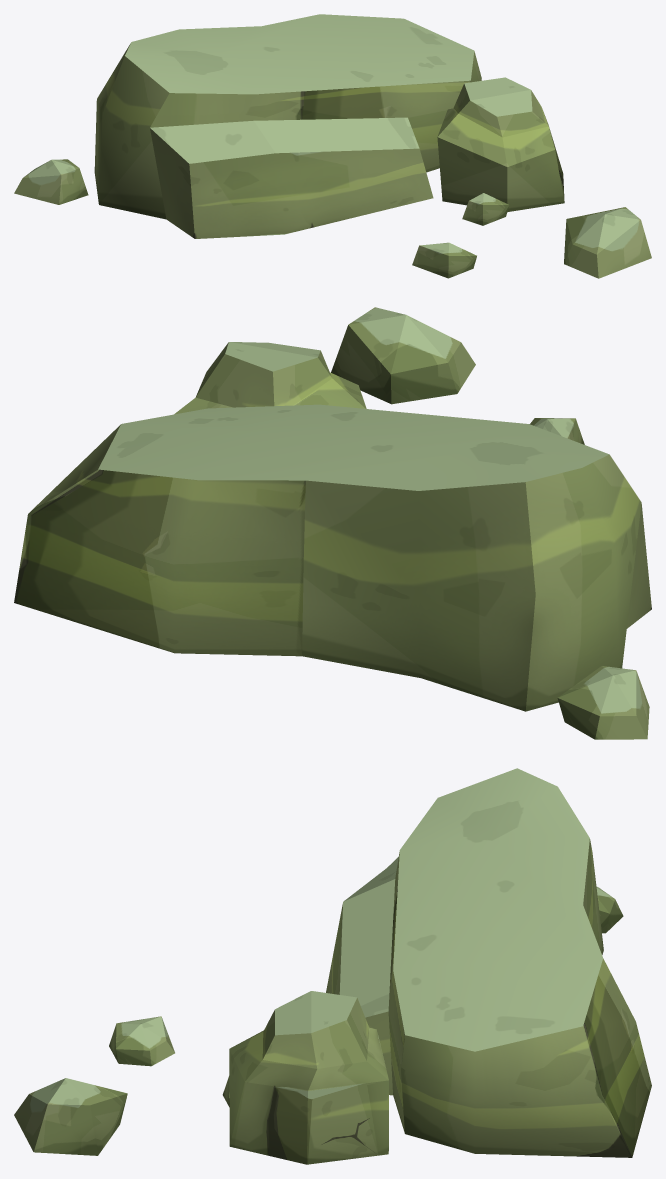
The model's file is F_W_O_rock_014.fbx.
3 views of the same model, one above another, from view 1: azimuth 30°, elevation 25°; view 2: azimuth 150°, elevation 25°; view 3: azimuth 270°, elevation 25° (orthographic). The views are drawn at different scales.
Visible parts, largest first — view 1: F_W_O_rock_014; view 2: F_W_O_rock_014; view 3: F_W_O_rock_014.
Boxes of the visible parts, x1,y1,x2,y2 form: F_W_O_rock_014: (14, 14, 651, 278); F_W_O_rock_014: (14, 307, 651, 739); F_W_O_rock_014: (14, 768, 651, 1164).
Size of the model in its own units: 9.04 by 2.86 by 9.21.
